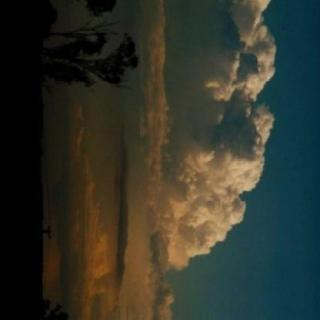Cumulonimbus: (62, 0, 320, 320)
